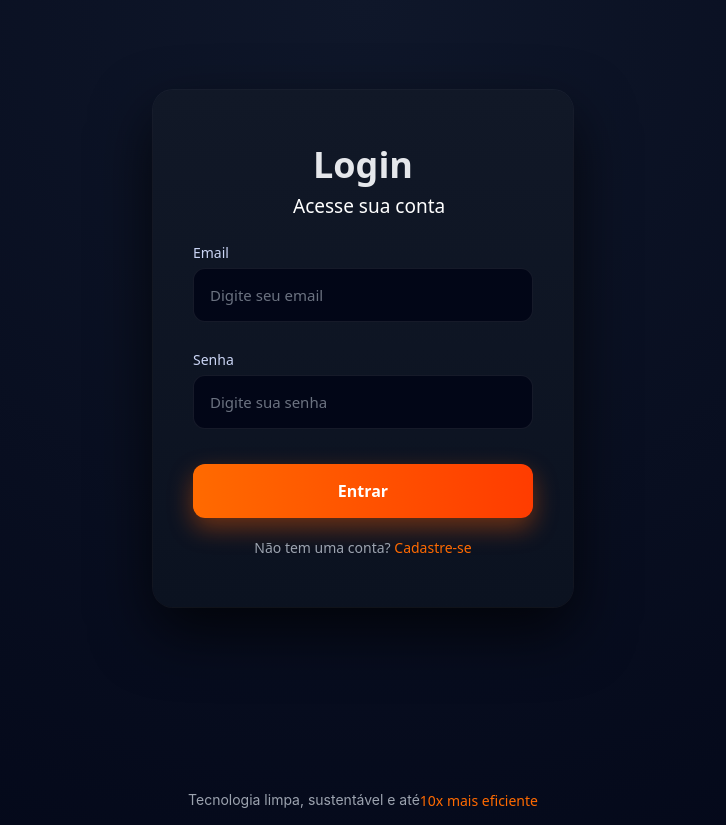
Test: Login › deve mostrar erro com campos vazios
Click the button "Entrar" at (363, 491), box [193,464,533,518]
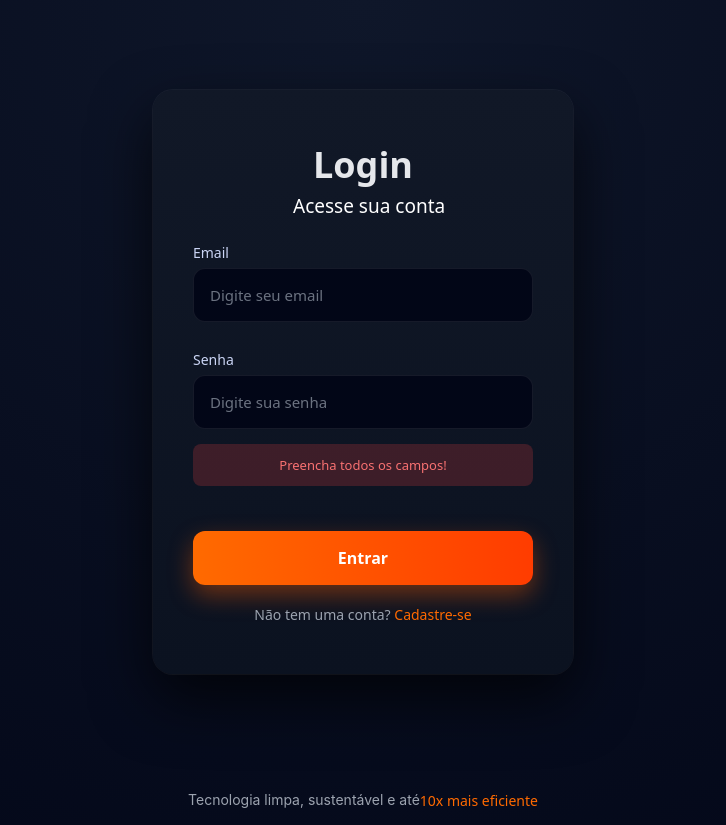
Expected: the text "Preencha todos os campos!" is shown, [193,444,533,486]
